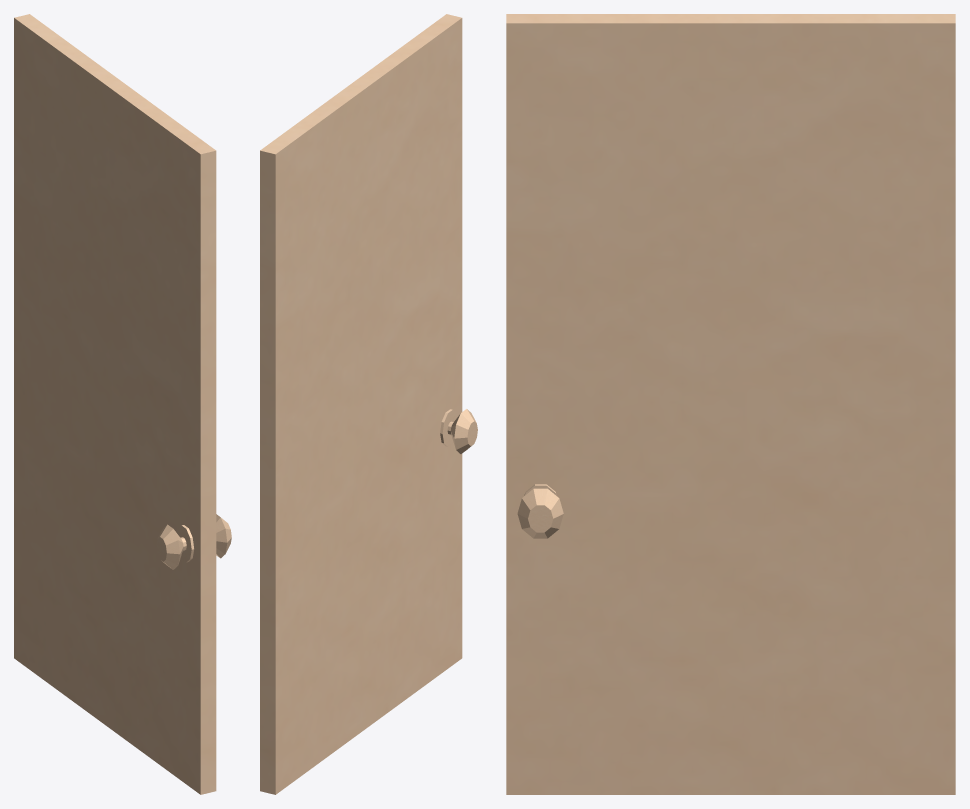
The model's file is Door_Jamb_A.fbx.
3 views of the same model, side by side, from view 1: azimuth 30°, elevation 25°; view 2: azimuth 150°, elevation 25°; view 3: azimuth 270°, elevation 25° (orthographic). The views are drawn at different scales.
Visible parts, largest first — view 1: Door_Jamb_A; view 2: Door_Jamb_A; view 3: Door_Jamb_A.
Boxes of the visible parts, x1,y1,x2,y2 form: Door_Jamb_A: (14, 14, 231, 794); Door_Jamb_A: (260, 14, 477, 794); Door_Jamb_A: (506, 14, 955, 794).
Size of the model in its own units: 0.1973 by 1.86 by 0.9819.
Materials: 1 (1 with a texture image).
